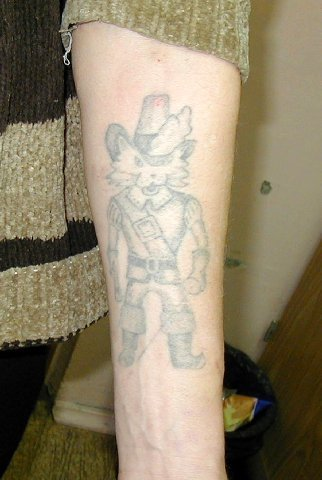tatu8_kot: (86, 77, 221, 377)
